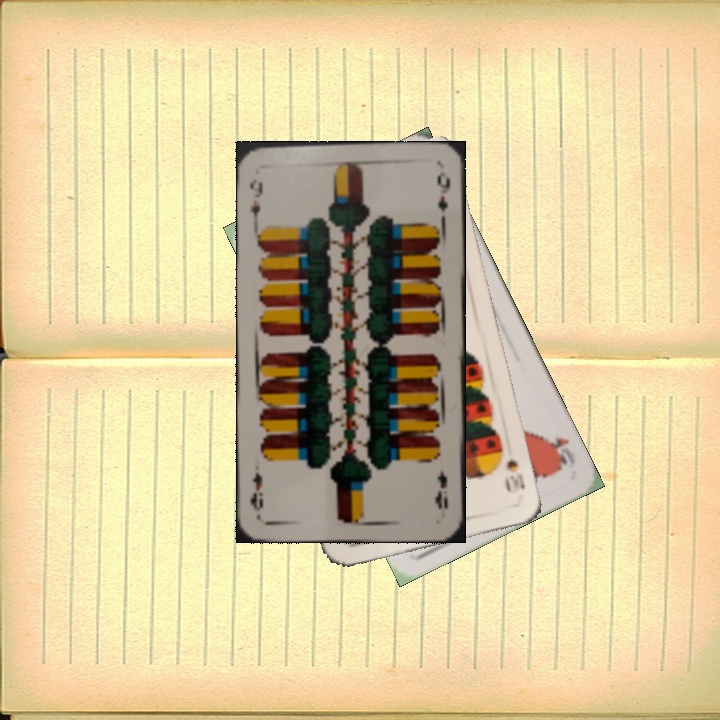E9: (245, 176, 265, 226), (430, 467, 450, 512)
HO: (542, 433, 578, 472)
S10: (501, 456, 528, 494)
